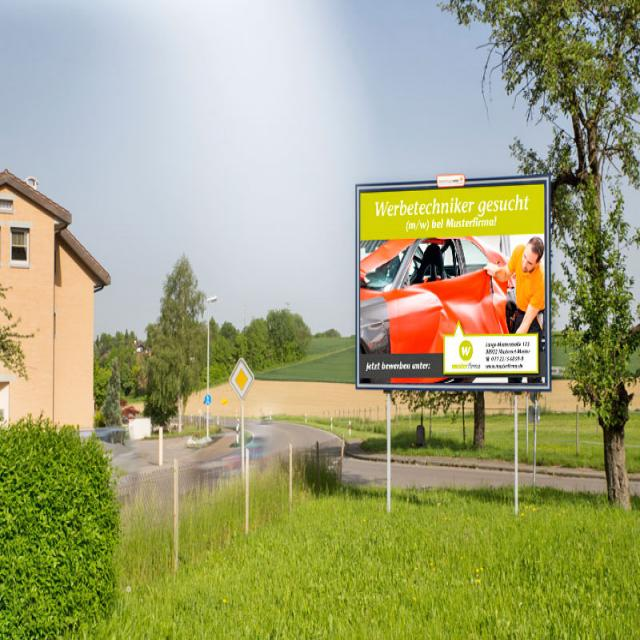Werbetafel frei: (346, 168, 565, 397)
